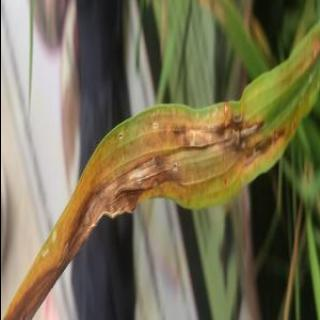Blast: (92, 104, 233, 218), (232, 105, 268, 177), (73, 192, 97, 240), (31, 264, 45, 306), (59, 218, 71, 262)
